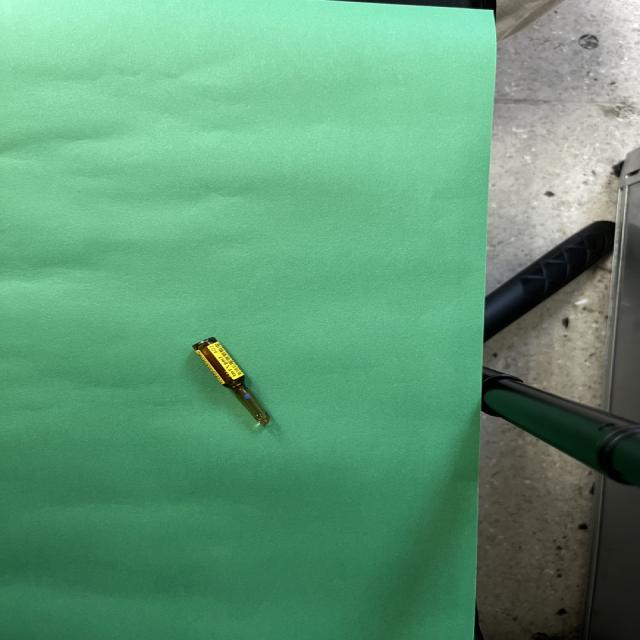Ampoules: (193, 338, 270, 426)
